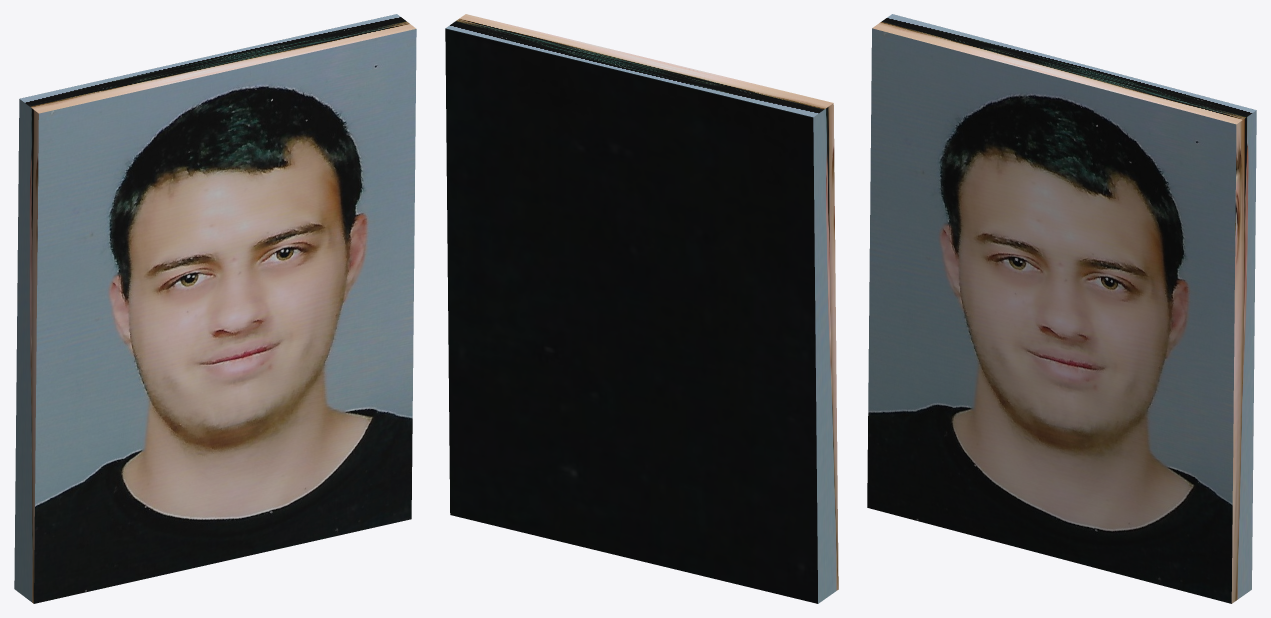
Rendered from myFace.glb.
3 views of the same model, side by side, from view 1: azimuth 30°, elevation 25°; view 2: azimuth 150°, elevation 25°; view 3: azimuth 330°, elevation 25° (orthographic).
Parts seen in each view (by area): view 1: myFace; view 2: myFace; view 3: myFace.
Part boxes in pixels (bbox=[...]): myFace: bbox=[14, 14, 416, 603]; myFace: bbox=[445, 14, 838, 603]; myFace: bbox=[867, 14, 1256, 603].
Size of the model in its own units: 0.5866 by 0.7282 by 0.0629.
1 material, 1 textured.
